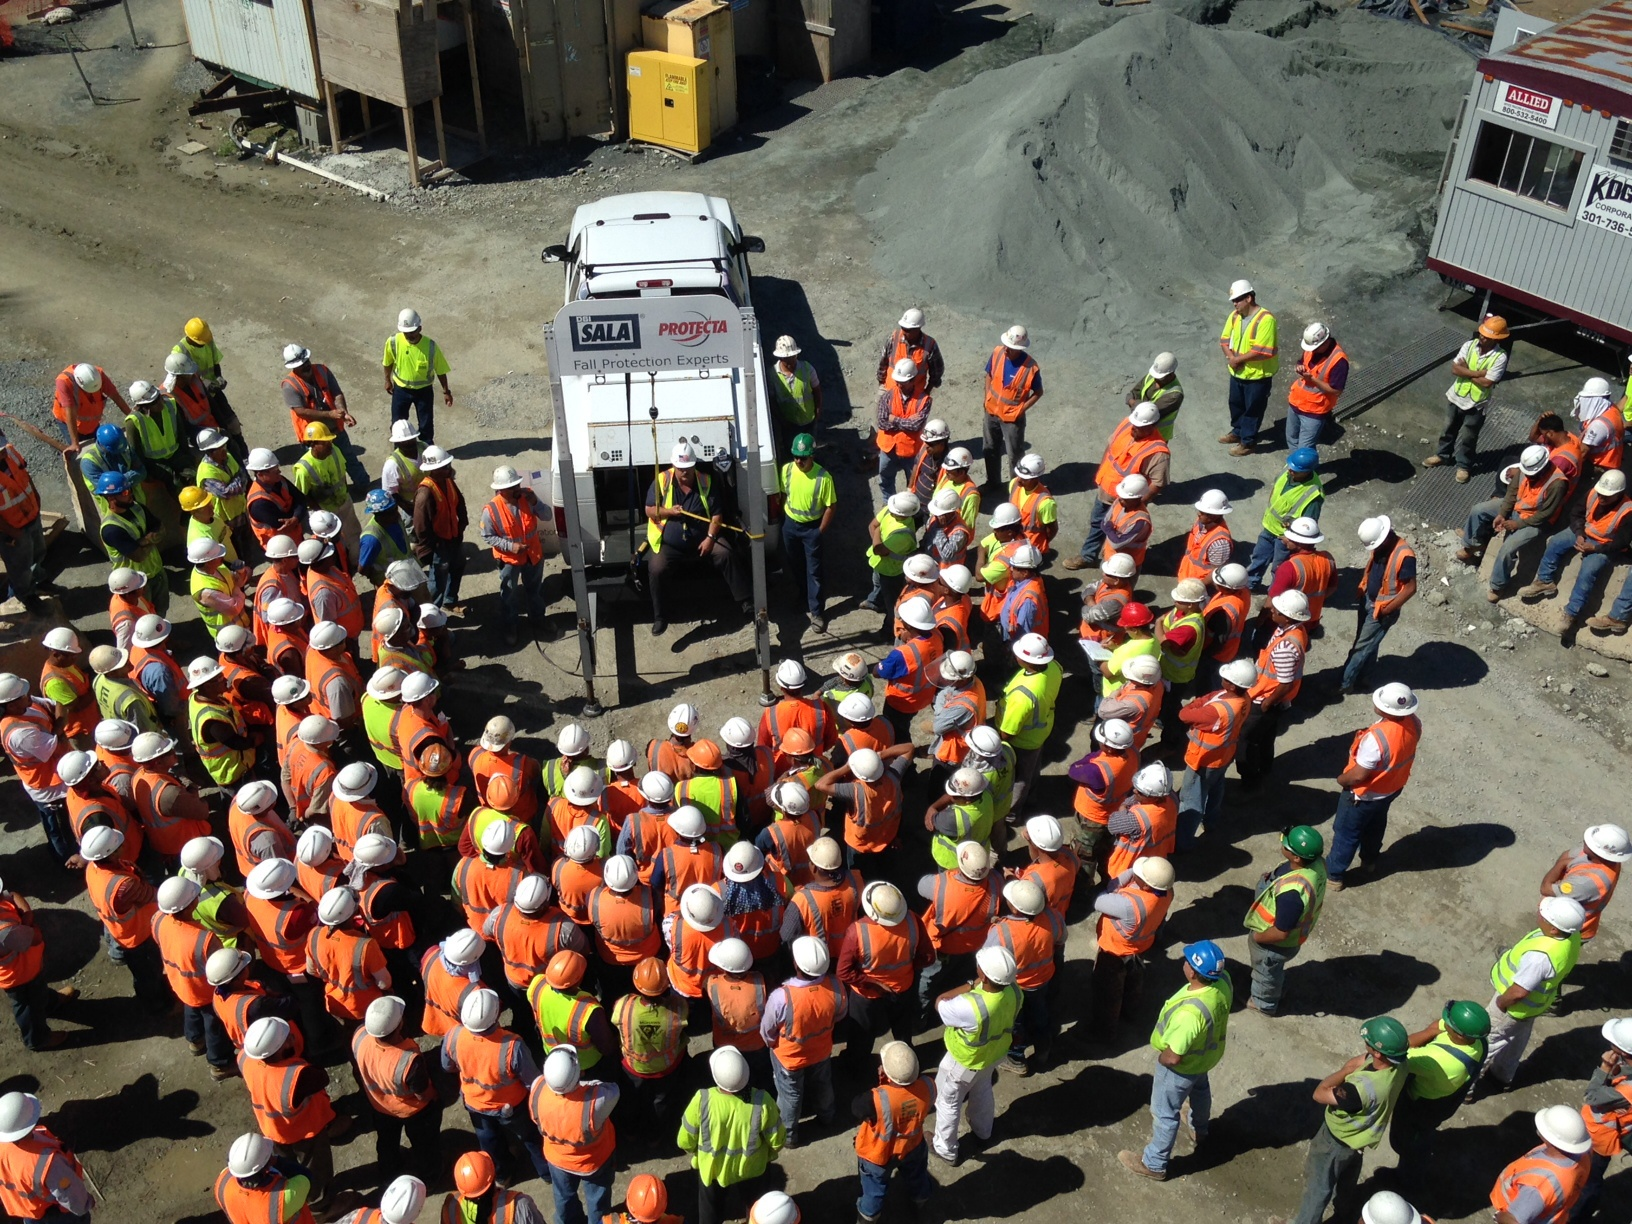blue: (1181, 939, 1227, 984), (96, 471, 135, 509), (94, 420, 126, 456), (1288, 444, 1318, 478), (366, 489, 398, 521)
none: (1539, 411, 1566, 445)
red: (1118, 600, 1155, 639)
white: (1537, 1102, 1592, 1166), (3, 1084, 45, 1151), (245, 1014, 296, 1065), (222, 1134, 272, 1183), (378, 1175, 428, 1224), (247, 854, 296, 903), (971, 942, 1018, 993), (864, 879, 909, 931), (874, 1038, 920, 1086), (1584, 825, 1629, 876), (541, 1043, 583, 1095), (708, 1043, 750, 1094), (457, 986, 501, 1035), (364, 991, 406, 1041), (676, 885, 722, 930), (708, 935, 753, 981), (1362, 1188, 1420, 1224), (130, 729, 179, 771), (179, 834, 224, 879), (1536, 894, 1581, 939), (159, 870, 200, 919), (332, 759, 377, 802), (750, 1187, 803, 1224), (80, 823, 123, 867), (206, 945, 251, 987), (722, 840, 765, 885), (317, 885, 361, 927), (789, 933, 833, 976), (57, 750, 102, 791), (185, 653, 227, 696), (563, 768, 604, 811), (1133, 854, 1177, 895), (1372, 680, 1416, 721), (511, 873, 551, 918), (441, 930, 483, 971), (1268, 588, 1309, 629), (353, 832, 396, 872), (896, 595, 936, 636), (770, 777, 808, 819), (806, 837, 844, 879), (238, 777, 278, 816), (668, 802, 707, 843), (1024, 814, 1063, 855), (1135, 760, 1173, 801), (93, 717, 136, 753), (956, 836, 989, 882), (298, 714, 341, 750), (1005, 878, 1045, 915), (1013, 631, 1052, 669), (846, 744, 882, 786), (948, 762, 984, 804), (1602, 1016, 1632, 1065), (375, 606, 412, 644), (131, 613, 170, 651), (42, 626, 80, 665), (637, 770, 676, 807), (1123, 652, 1160, 690), (404, 670, 439, 710), (107, 564, 146, 600), (482, 712, 517, 753), (483, 815, 514, 861), (271, 674, 314, 707), (1220, 657, 1258, 693), (1285, 516, 1324, 552), (297, 825, 332, 865), (215, 624, 254, 658), (604, 854, 639, 894), (1007, 544, 1047, 579), (720, 717, 756, 755), (1095, 719, 1133, 753), (245, 447, 281, 483), (831, 649, 867, 685), (369, 663, 404, 701), (1127, 401, 1162, 438), (989, 500, 1022, 540), (308, 620, 344, 654), (936, 564, 970, 600), (1356, 516, 1390, 552), (266, 534, 299, 571), (564, 825, 598, 863), (185, 537, 224, 570), (837, 693, 875, 725), (1, 671, 30, 715), (556, 724, 591, 759), (267, 597, 303, 630), (383, 561, 415, 598), (605, 739, 637, 777), (774, 657, 806, 694), (664, 702, 698, 737), (968, 724, 1001, 759), (902, 552, 937, 585), (1171, 579, 1205, 612), (299, 537, 335, 570), (195, 426, 227, 462), (930, 487, 961, 525), (1115, 472, 1149, 505), (1196, 489, 1230, 522), (421, 444, 454, 478), (491, 464, 523, 499), (308, 508, 341, 543), (1014, 454, 1046, 489), (1214, 562, 1248, 594), (1300, 320, 1333, 354), (164, 350, 195, 384), (415, 602, 445, 636), (943, 651, 973, 685), (921, 418, 951, 453), (130, 379, 161, 411), (998, 325, 1029, 357), (1581, 375, 1611, 408), (1149, 350, 1178, 383), (670, 444, 696, 480), (1595, 468, 1622, 504), (73, 363, 103, 395), (1103, 554, 1135, 584), (889, 491, 921, 521), (281, 345, 311, 375), (1520, 444, 1550, 474), (1228, 279, 1255, 312), (391, 418, 418, 450), (774, 334, 801, 366), (945, 447, 971, 480), (891, 357, 918, 390), (397, 306, 421, 341), (898, 309, 925, 336)
yellow: (621, 1173, 671, 1221), (454, 1149, 496, 1201), (632, 957, 671, 1002), (177, 483, 216, 525), (546, 948, 583, 990), (418, 744, 455, 786), (779, 726, 815, 768), (91, 645, 132, 678), (486, 773, 518, 813), (689, 741, 722, 775), (303, 420, 334, 456), (1477, 312, 1509, 346), (182, 316, 209, 348)
